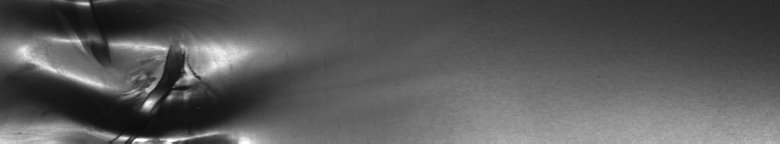ke: (18, 4, 228, 136)
